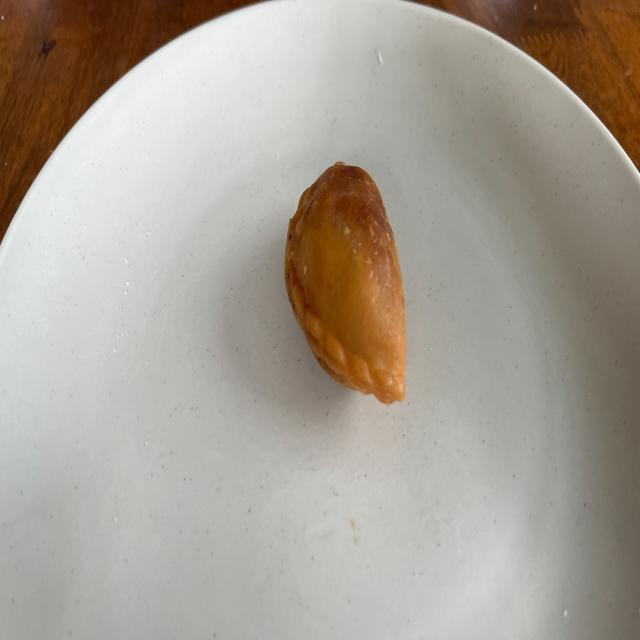karipap: (285, 162, 406, 404)
